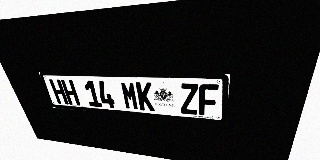1: (82, 80, 102, 107)
4: (96, 81, 116, 108)
F: (199, 84, 219, 116)
H: (60, 80, 81, 105), (49, 79, 69, 105)
K: (135, 82, 155, 111)
M: (120, 81, 139, 110)
Z: (180, 83, 198, 115)
